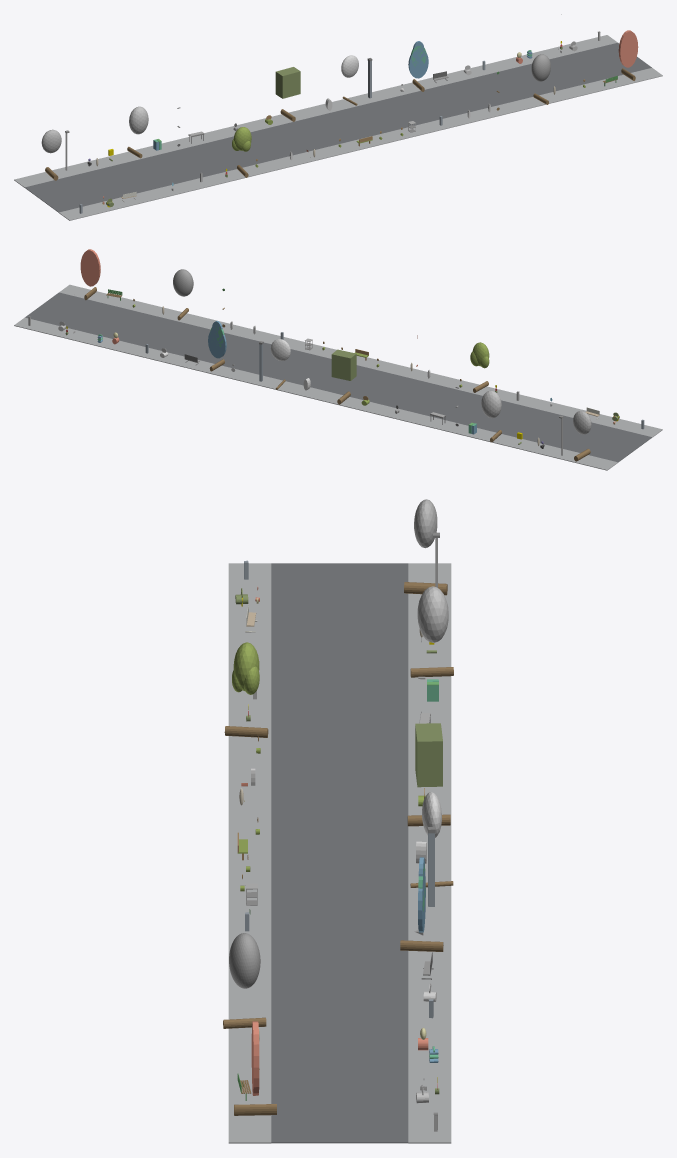
The picture shows the model from 3 angles, top to bottom: view 1: azimuth 30°, elevation 25°; view 2: azimuth 150°, elevation 25°; view 3: azimuth 270°, elevation 25°; orthographic projection. The views are drawn at different scales.
Visible parts, largest first — view 1: road_slab, sidewalk_left, sidewalk_right, inst_0021, inst_0025, inst_0023, inst_0019, inst_0024, inst_0018, inst_0020, inst_0022; view 2: road_slab, sidewalk_right, sidewalk_left, inst_0021, inst_0025, inst_0023, inst_0019, inst_0024, inst_0020, inst_0018, inst_0022; view 3: road_slab, sidewalk_left, sidewalk_right, inst_0021, inst_0019, inst_0024, inst_0020, inst_0018, inst_0025, inst_0023.
Boxes of the visible parts, box(x1,y1,x2,y2) form: road_slab: box(24, 42, 651, 212); sidewalk_left: box(59, 68, 662, 220); sidewalk_right: box(14, 35, 617, 187); inst_0021: box(275, 67, 300, 121); inst_0025: box(618, 30, 638, 80); inst_0023: box(408, 41, 428, 91); inst_0019: box(127, 106, 148, 158); inst_0024: box(531, 54, 550, 104); inst_0018: box(41, 129, 61, 180); inst_0020: box(232, 127, 251, 177); inst_0022: box(341, 55, 358, 105); road_slab: box(25, 292, 651, 462); sidewalk_right: box(14, 317, 617, 470); sidewalk_left: box(59, 284, 662, 437); inst_0021: box(331, 349, 356, 404); inst_0025: box(80, 249, 100, 300); inst_0023: box(208, 321, 226, 371); inst_0019: box(481, 390, 501, 442); inst_0024: box(173, 269, 193, 320); inst_0020: box(470, 342, 489, 392); inst_0018: box(573, 411, 591, 461); inst_0022: box(270, 339, 290, 389); road_slab: box(271, 563, 408, 1143); sidewalk_left: box(228, 563, 271, 1143); sidewalk_right: box(408, 563, 451, 1143); inst_0021: box(407, 723, 450, 826); inst_0019: box(410, 586, 453, 677); inst_0024: box(223, 933, 266, 1028); inst_0020: box(224, 642, 268, 737); inst_0018: box(404, 499, 447, 595); inst_0025: box(234, 1021, 276, 1115); inst_0023: box(400, 857, 443, 951).
Size of the model in its own units: 80 by 6.08 by 13.48.
